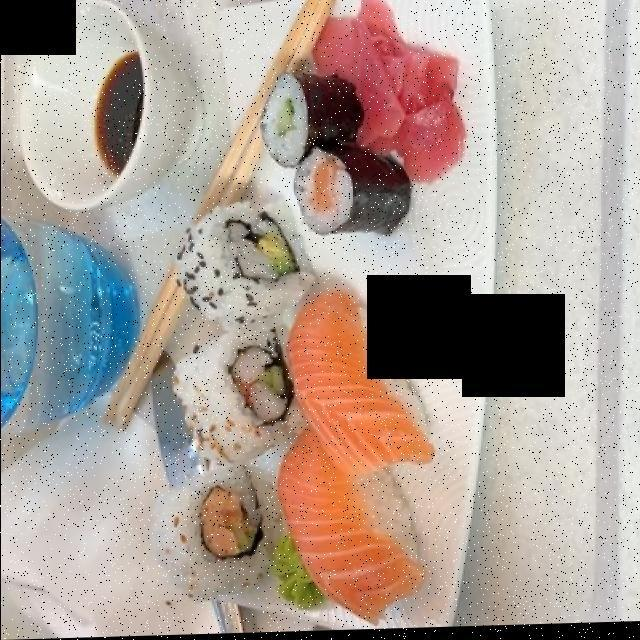sauce: (95, 60, 140, 169)
sushi: (152, 81, 431, 618)
